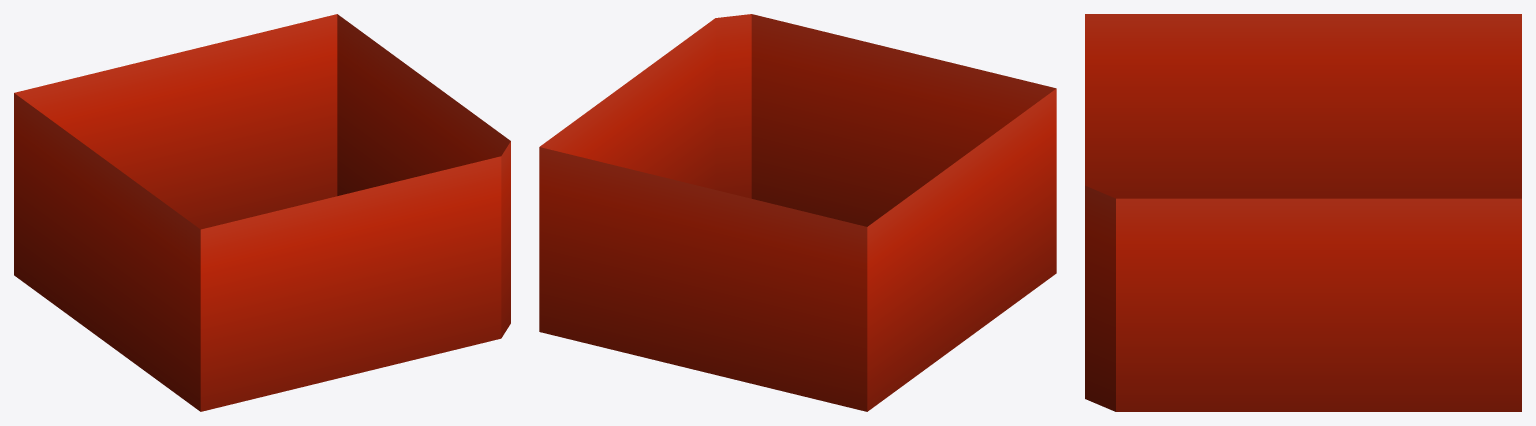
File: Counter_01_Corner_C04.fbx
3 renders of one model, left to right at view 1: azimuth 30°, elevation 25°; view 2: azimuth 150°, elevation 25°; view 3: azimuth 270°, elevation 25°, orthographic. The views are drawn at different scales.
Parts seen in each view (by area): view 1: Counter_01_Corner_C04; view 2: Counter_01_Corner_C04; view 3: Counter_01_Corner_C04.
Part boxes in pixels (left/top/right/bottom): Counter_01_Corner_C04: left=14, top=14, right=510, bottom=411; Counter_01_Corner_C04: left=539, top=14, right=1056, bottom=411; Counter_01_Corner_C04: left=1085, top=14, right=1521, bottom=411.
Size of the model in its own units: 100 by 53.91 by 100.
